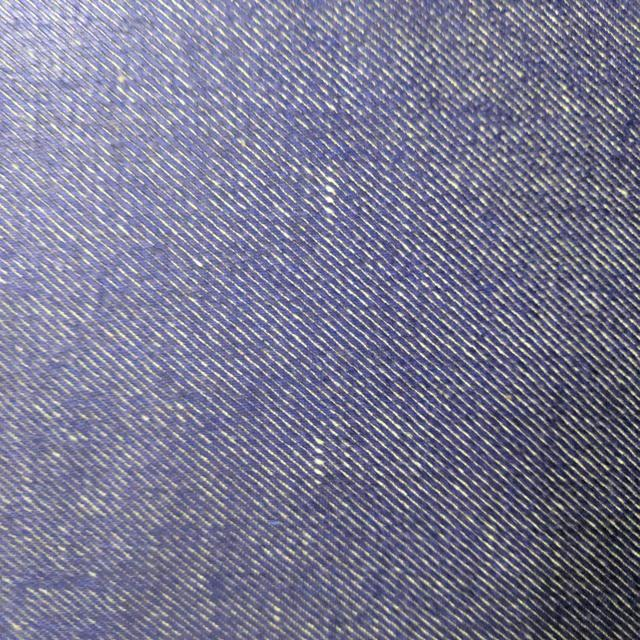pulled_or_thick_thread: (321, 161, 342, 241), (315, 436, 325, 504)
